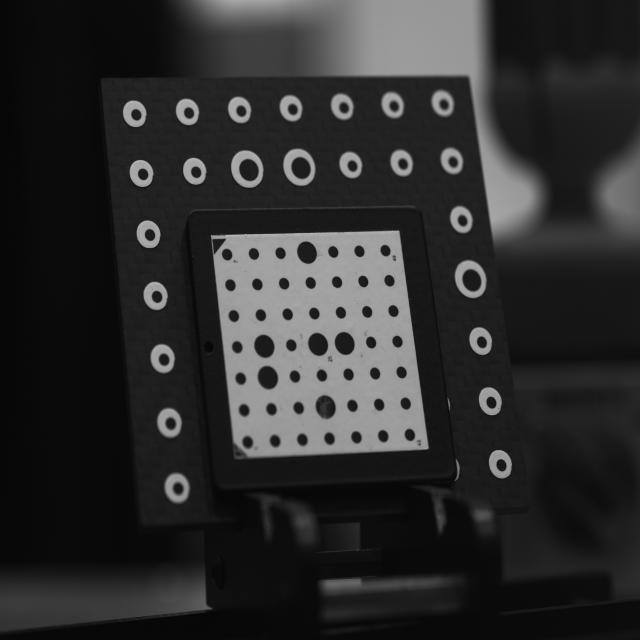circle point: (315, 395, 336, 420), (254, 334, 275, 358), (257, 366, 278, 389), (297, 241, 317, 265), (291, 156, 311, 180), (462, 268, 482, 292), (334, 332, 355, 354), (308, 333, 328, 356), (239, 159, 259, 182), (144, 229, 156, 241), (158, 353, 170, 365), (486, 396, 497, 409), (496, 459, 507, 472), (400, 397, 411, 410), (354, 245, 365, 258), (343, 368, 354, 381), (404, 429, 415, 441), (396, 366, 407, 378), (392, 336, 403, 348), (388, 305, 399, 317), (362, 306, 373, 318), (384, 274, 395, 286), (380, 244, 391, 256), (328, 246, 339, 258), (275, 248, 286, 260), (248, 248, 259, 260), (225, 279, 236, 291), (252, 278, 263, 290), (282, 308, 293, 320), (235, 372, 246, 384), (242, 436, 253, 448), (297, 434, 308, 446), (324, 432, 335, 444), (351, 432, 362, 444), (347, 400, 358, 412), (266, 404, 277, 416), (374, 398, 384, 411), (317, 369, 327, 382), (286, 339, 296, 352), (152, 291, 163, 302), (166, 418, 177, 429), (173, 483, 184, 494), (477, 336, 487, 348), (358, 276, 368, 288), (222, 248, 232, 260), (279, 278, 289, 290), (306, 277, 316, 289), (332, 276, 342, 288), (336, 306, 346, 318), (309, 308, 319, 320), (256, 309, 266, 321), (229, 310, 239, 322), (232, 342, 242, 354), (239, 404, 249, 416), (270, 436, 280, 448), (378, 430, 388, 442), (370, 368, 380, 380), (366, 336, 376, 348), (294, 402, 304, 414), (290, 370, 300, 382), (184, 107, 194, 118), (339, 102, 349, 113), (389, 101, 399, 112), (398, 159, 408, 170), (458, 215, 468, 226), (132, 110, 142, 120), (236, 106, 246, 116), (288, 104, 298, 114), (347, 161, 357, 171), (191, 167, 201, 177), (138, 169, 148, 179), (448, 157, 458, 167), (440, 100, 450, 110)
white circle: (455, 260, 487, 299), (283, 149, 315, 187), (232, 150, 263, 188), (156, 408, 182, 438), (164, 473, 190, 503), (151, 344, 175, 374), (136, 220, 161, 248), (488, 449, 512, 478), (123, 100, 147, 128), (279, 94, 303, 122), (330, 93, 354, 121), (144, 282, 168, 310), (478, 387, 502, 415), (470, 326, 492, 356), (183, 158, 207, 185), (228, 96, 251, 124), (176, 99, 199, 126), (130, 160, 153, 187), (390, 150, 413, 177), (441, 147, 464, 174), (450, 206, 473, 233), (381, 92, 404, 118), (340, 152, 362, 178), (432, 90, 454, 116)
